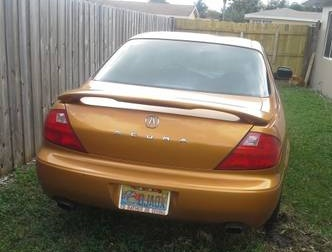acura: (34, 15, 296, 235)
